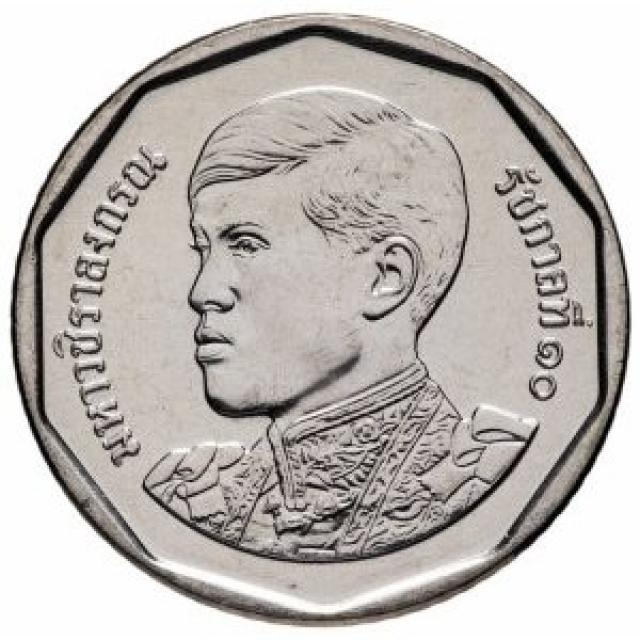5 Bath: (7, 8, 640, 629)
